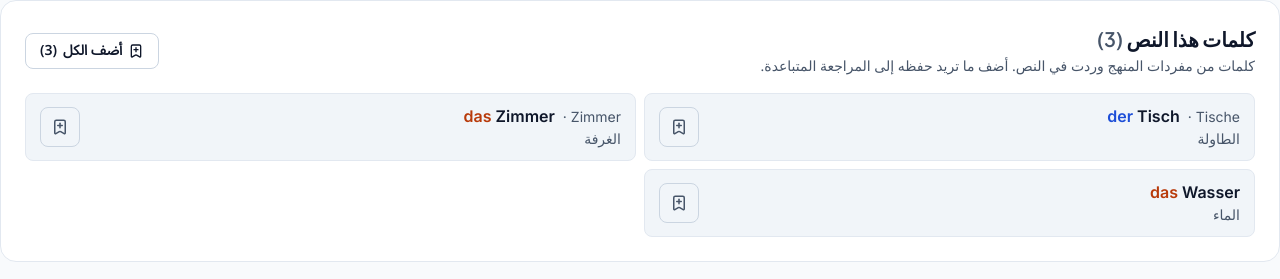
Test: StoryWords › adds every word at once with "add all" and never removes one that was already saved
Step 1. Click the button named "إضافة Tisch إلى المراجعة" → (679, 127), box [659,107,699,147]
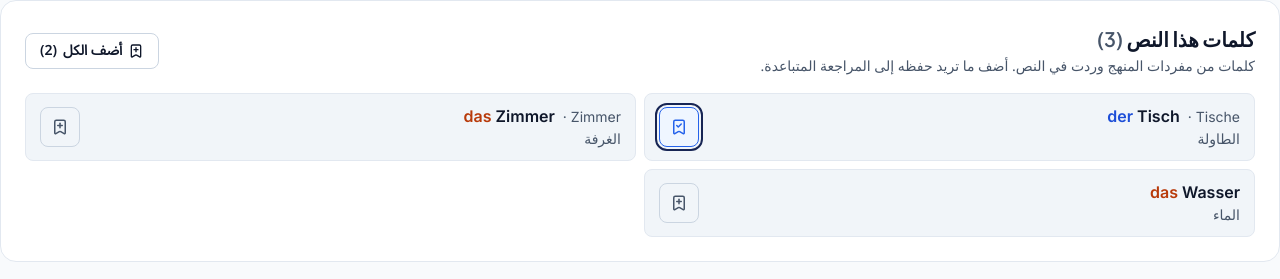
Step 2. Click the button "أضف الكل (2)" → (92, 51), box [25,33,159,69]
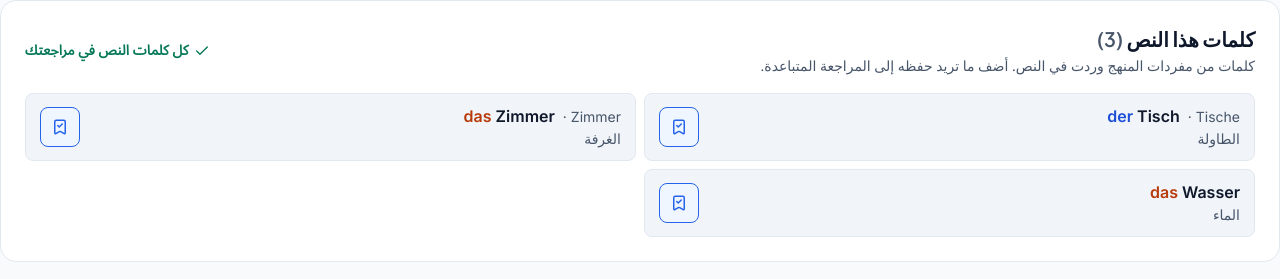
Expected: the text "كل كلمات النص في مراجعتك" is shown, [25,41,210,61]
